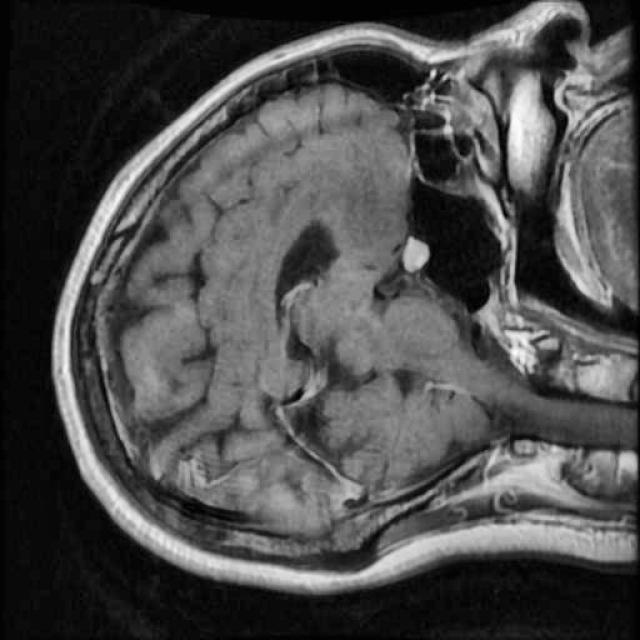Tumor: (394, 225, 444, 281)
